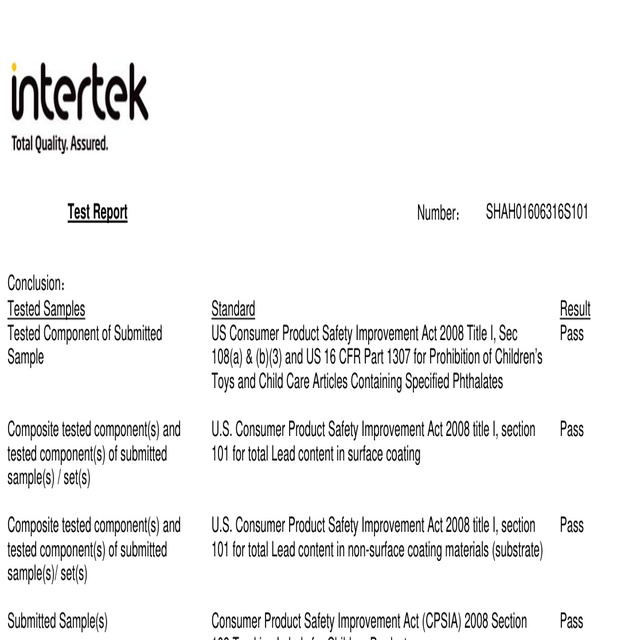intertek: (9, 58, 150, 125)
